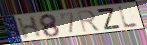7: (58, 11, 76, 34)
8: (38, 12, 62, 38)
H: (16, 15, 43, 40)
L: (117, 6, 141, 30)
R: (76, 9, 102, 34)
Z: (96, 7, 122, 31)
